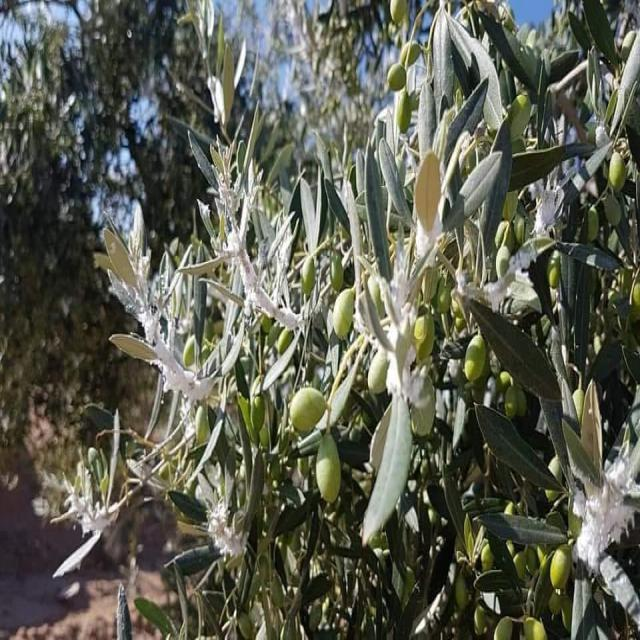Psyllid: (356, 257, 434, 419), (574, 458, 639, 624), (110, 334, 213, 398), (454, 245, 540, 314), (54, 468, 120, 548), (235, 246, 298, 324), (412, 198, 443, 276), (208, 510, 244, 556), (534, 184, 560, 234)
